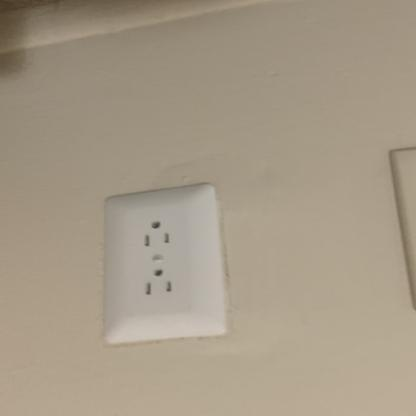OUTLET: (102, 183, 223, 346)
